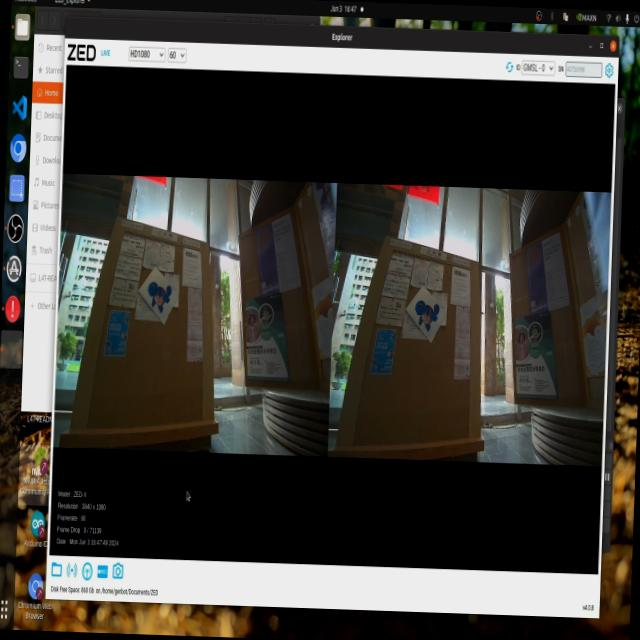blue: (134, 280, 178, 330), (411, 292, 438, 332)
